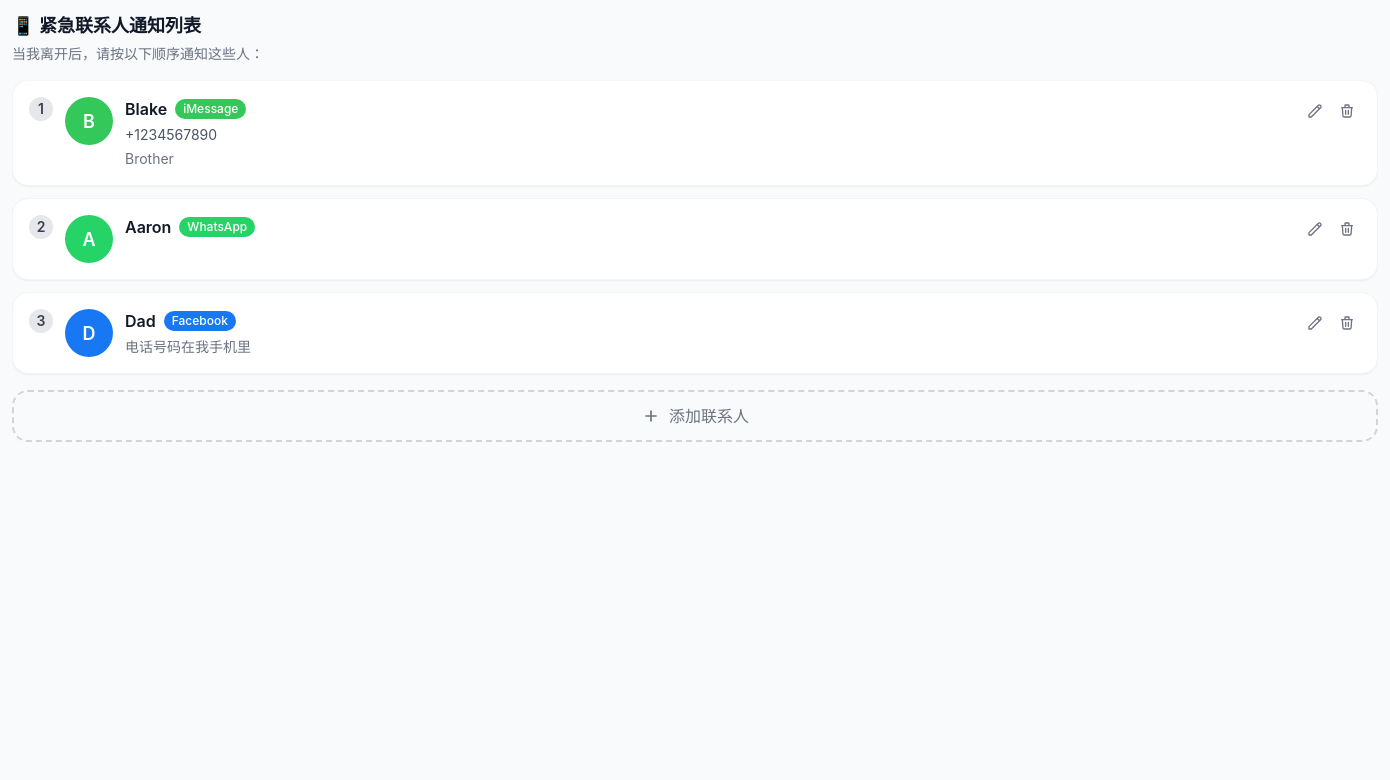
Test: ContactBubbleList › Edit Contact › should show form when edit button is clicked
The width and height of the screenshot is (1390, 780).
Click the button with test id "contact-edit-button" in the row of "iMessage" at [1315, 111], box top-left (1301, 97), bottom-right (1329, 125)
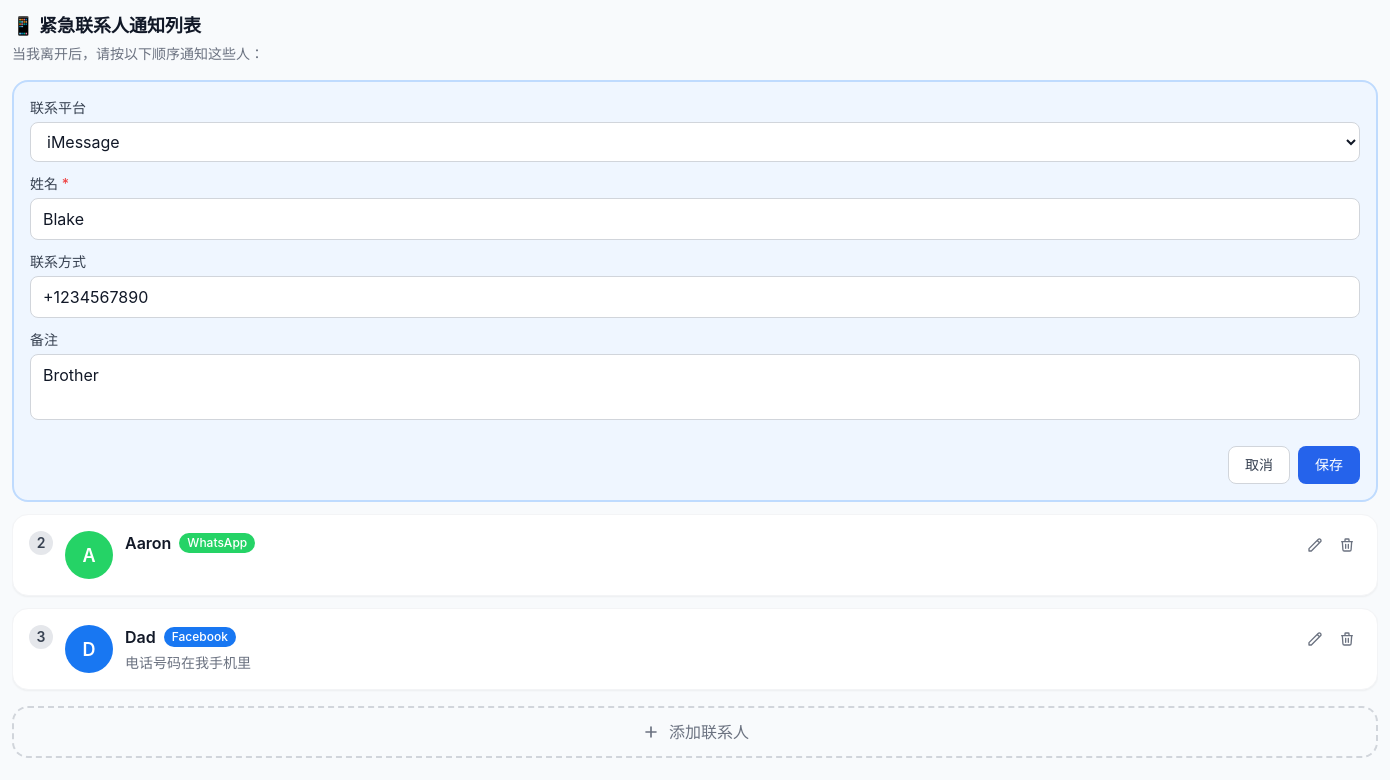
Expected: the form with test id "contact-bubble-form" is shown, top-left (12, 80), bottom-right (1378, 502)
